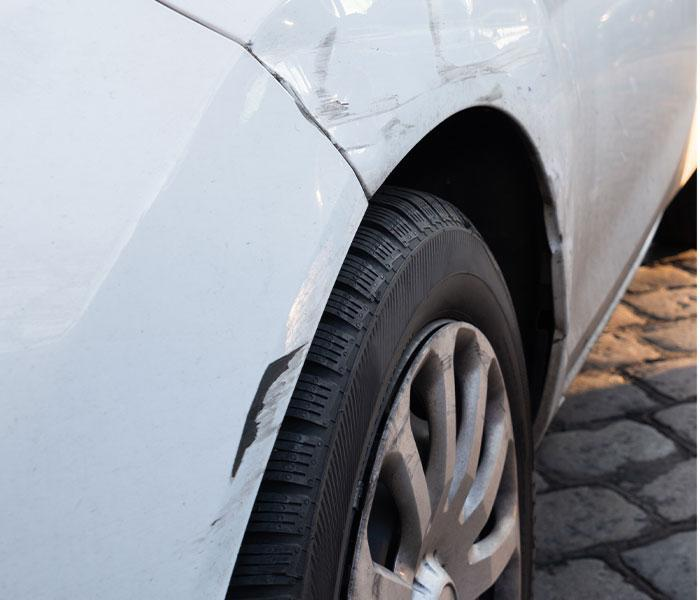dent: (282, 0, 612, 150), (193, 331, 317, 557)
